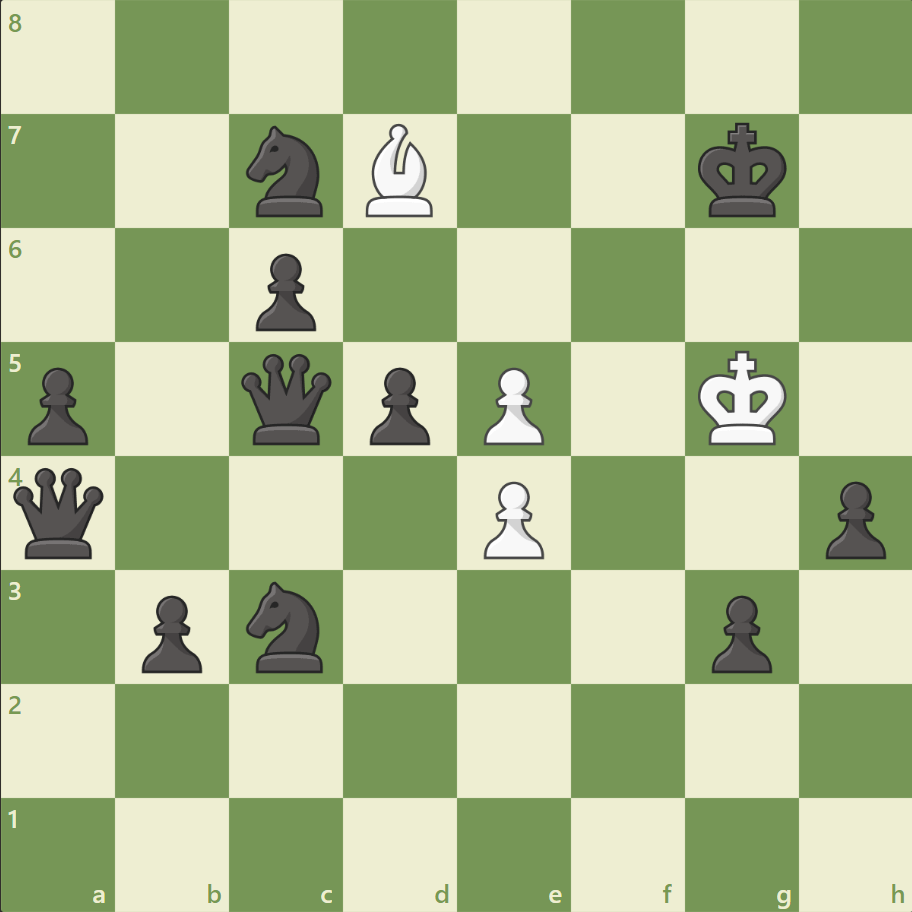B: (358, 120, 442, 222)
K: (692, 344, 792, 452)
P: (474, 359, 549, 450), (474, 473, 549, 564)
k: (692, 117, 792, 225)
n: (238, 121, 335, 223), (238, 575, 335, 677)
p: (247, 246, 322, 337), (20, 359, 95, 450), (133, 586, 208, 677), (701, 586, 776, 677), (361, 359, 435, 450), (815, 473, 889, 564)
q: (237, 349, 336, 449), (10, 463, 109, 562)
